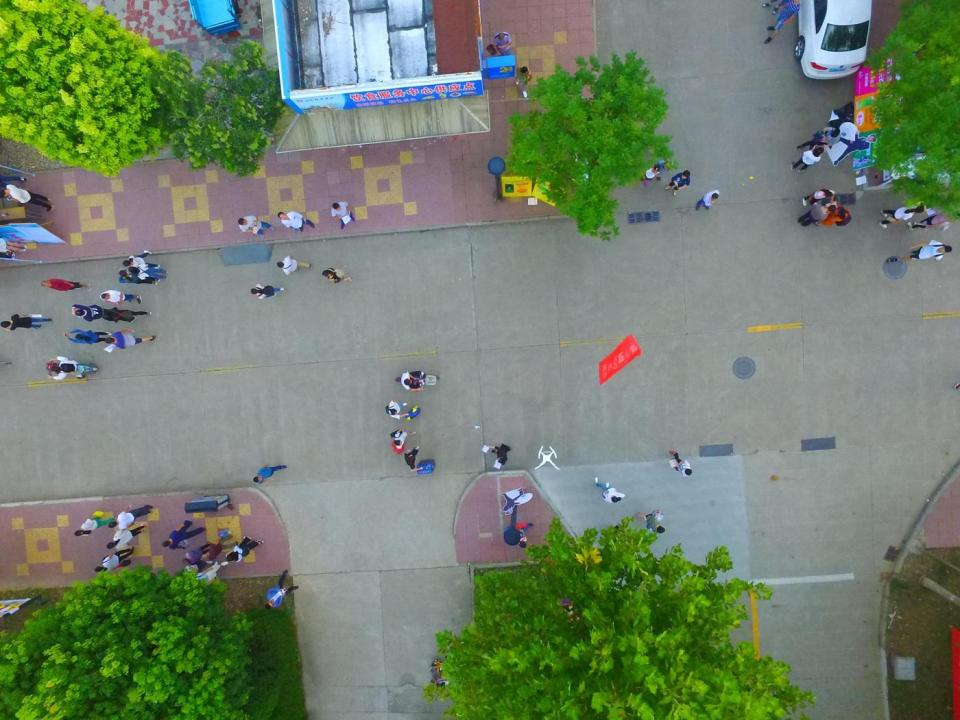car: (795, 0, 871, 80)
